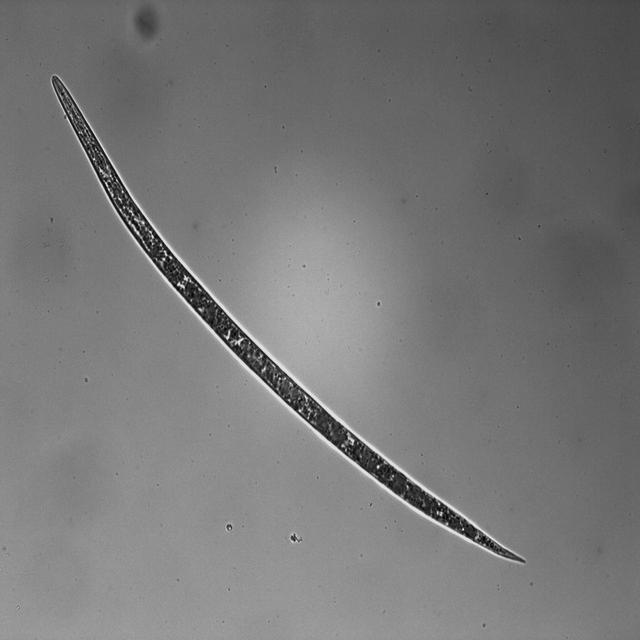Meloidogyne: (48, 72, 534, 566)
